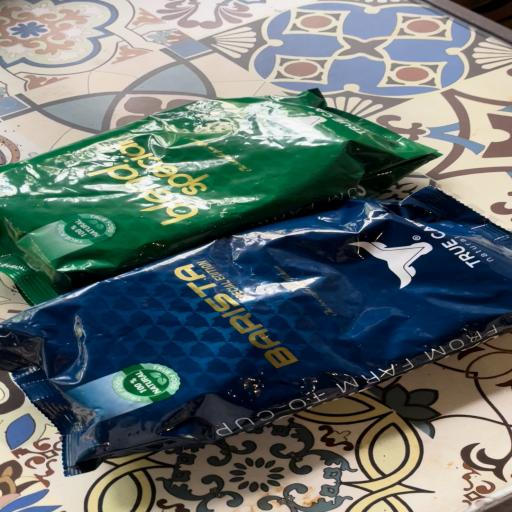cafe_hat: (0, 186, 512, 475)
cafe_xay: (0, 89, 437, 305)
